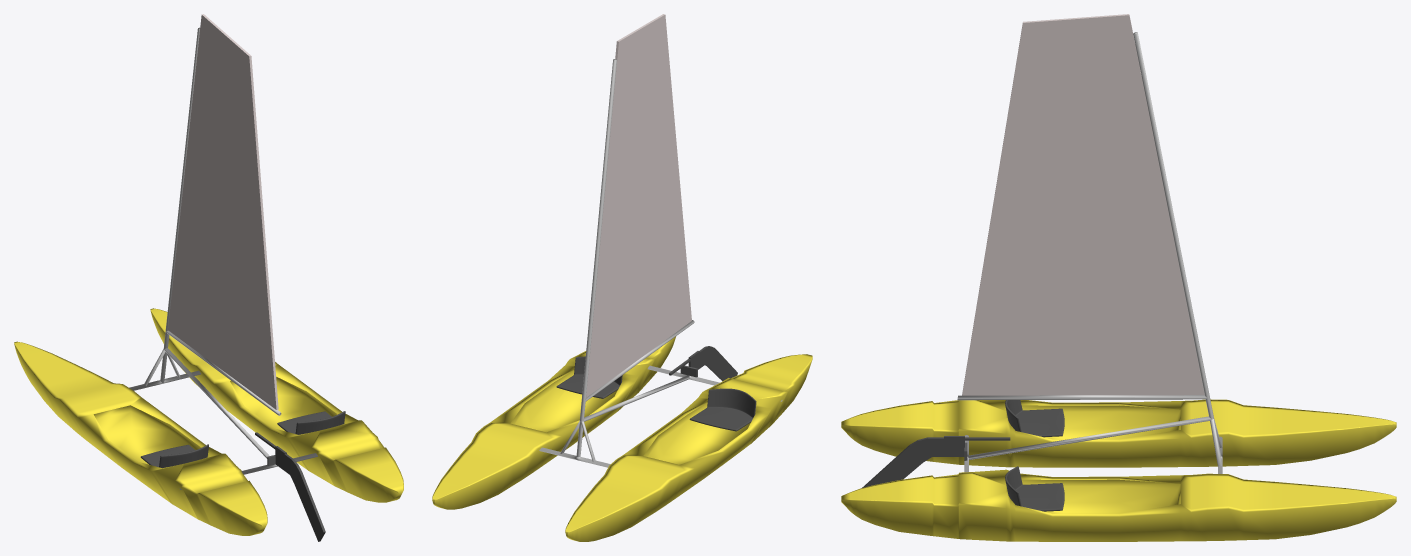
File: лодка_легкая.fbx
The picture shows the model from 3 angles, left to right: view 1: azimuth 30°, elevation 25°; view 2: azimuth 150°, elevation 25°; view 3: azimuth 270°, elevation 25°; orthographic projection. The views are drawn at different scales.
Visible parts, largest first — view 1: Cube.004; view 2: Cube.004; view 3: Cube.004.
Part boxes in pixels (x1=…): Cube.004: x1=14, y1=14, x2=403, y2=541; Cube.004: x1=432, y1=14, x2=812, y2=541; Cube.004: x1=841, y1=14, x2=1396, y2=541.
Size of the model in its own units: 19166 by 38490 by 39275.
